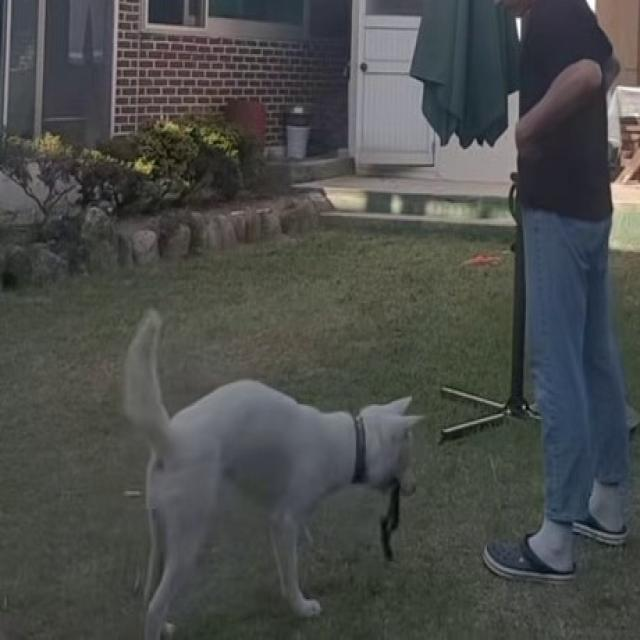Unleashed_Dog: (123, 222, 584, 640)
